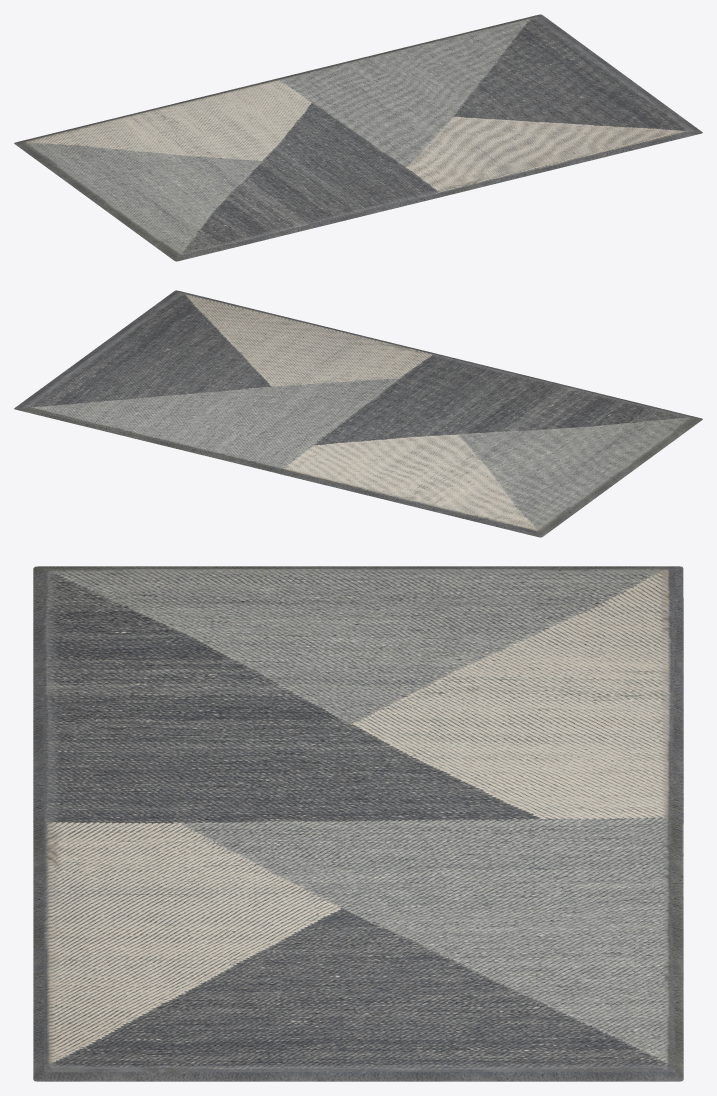
The model's file is SM_Rug_C1.fbx.
The picture shows the model from 3 angles, top to bottom: view 1: azimuth 30°, elevation 25°; view 2: azimuth 150°, elevation 25°; view 3: azimuth 270°, elevation 25°; orthographic projection. The views are drawn at different scales.
Parts seen in each view (by area): view 1: SM_Rug_C1; view 2: SM_Rug_C1; view 3: SM_Rug_C1.
Boxes of the visible parts, x1,y1,x2,y2 form: SM_Rug_C1: (14,14,702,261); SM_Rug_C1: (14,290,702,537); SM_Rug_C1: (33,566,683,1081).
Size of the model in its own units: 180 by 96.23 by 0.7028.
Materials: 1 (1 with a texture image).
